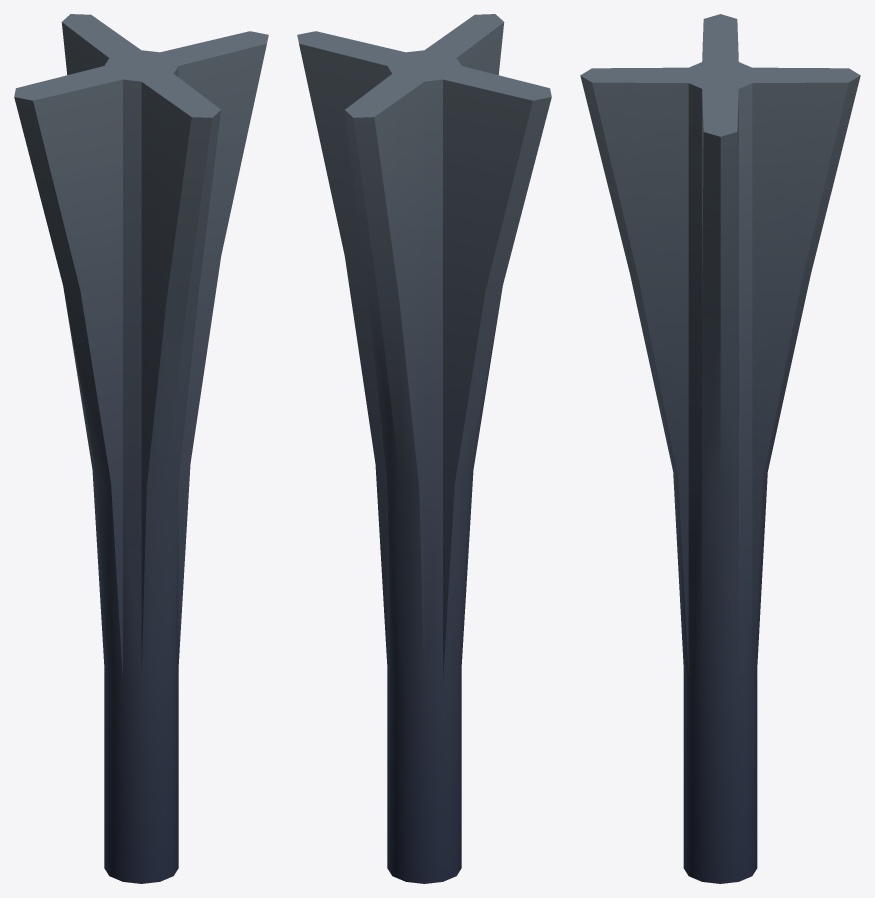
3 renders of one model, left to right at view 1: azimuth 30°, elevation 25°; view 2: azimuth 150°, elevation 25°; view 3: azimuth 270°, elevation 25°, orthographic.
Parts seen in each view (by area): view 1: Cylinder_2; view 2: Cylinder_2; view 3: Cylinder_2.
Boxes of the visible parts, x1,y1,x2,y2 form: Cylinder_2: (14, 14, 268, 883); Cylinder_2: (297, 14, 551, 883); Cylinder_2: (580, 14, 860, 883).
Bounding box in the file's own units: 66.44 × 200 × 64.12.
